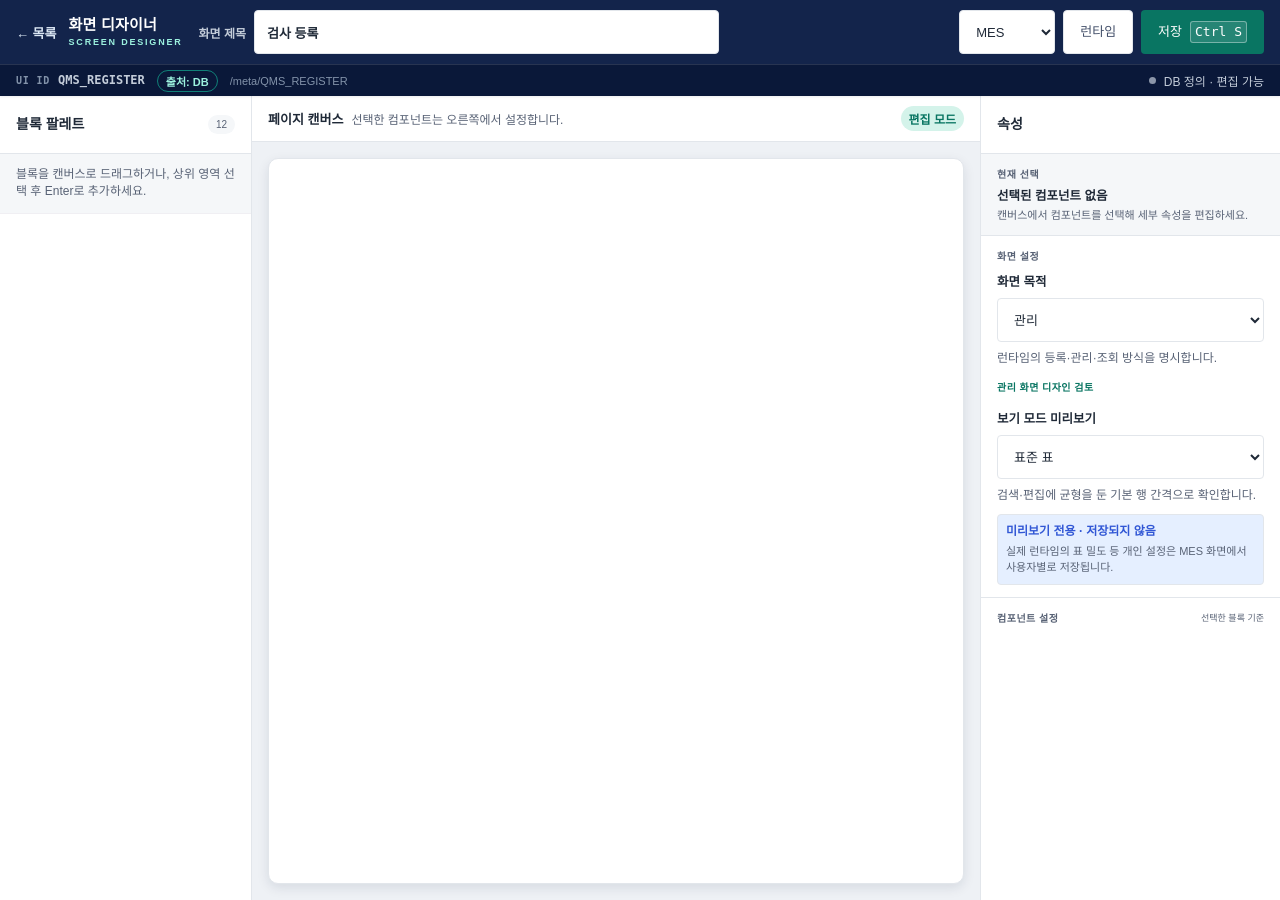
it: ScreenEditor 화면 목적 속성 › Manage 화면에서만 4가지 보기 모드를 저장과 분리해 캔버스에 미리보기한다
expect the text "미리보기 전용 · 저장되지 않음" is shown: met, box [1006,524,1156,538]
expect the text "개인 설정은 MES 화면에서 사용자별로 저장됩니다" is shown: met, box [1006,545,1247,573]
Select "카드" in the dropdown labelled "보기 모드 미리보기": (1130, 457) [997,435,1264,479]
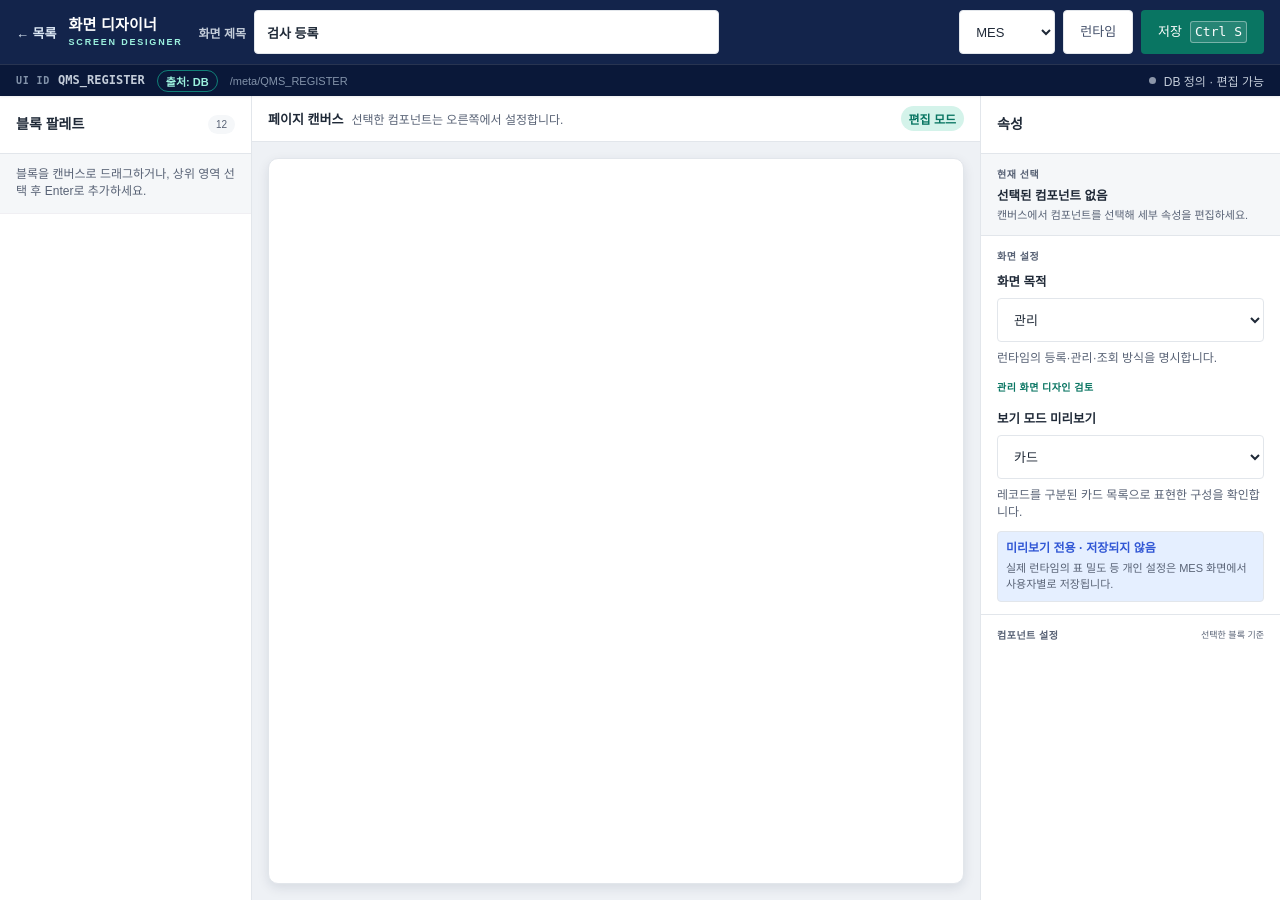
expect the text "DB 정의 · 편집 가능" is shown: met, box [1149,72,1264,89]
expect the text "레코드를 구분된 카드 목록으로 표현한 구성을 확인합니다." is shown: met, box [997,487,1264,521]
Click the button "저장 Ctrl S": (1203, 32) [1141,10,1264,54]
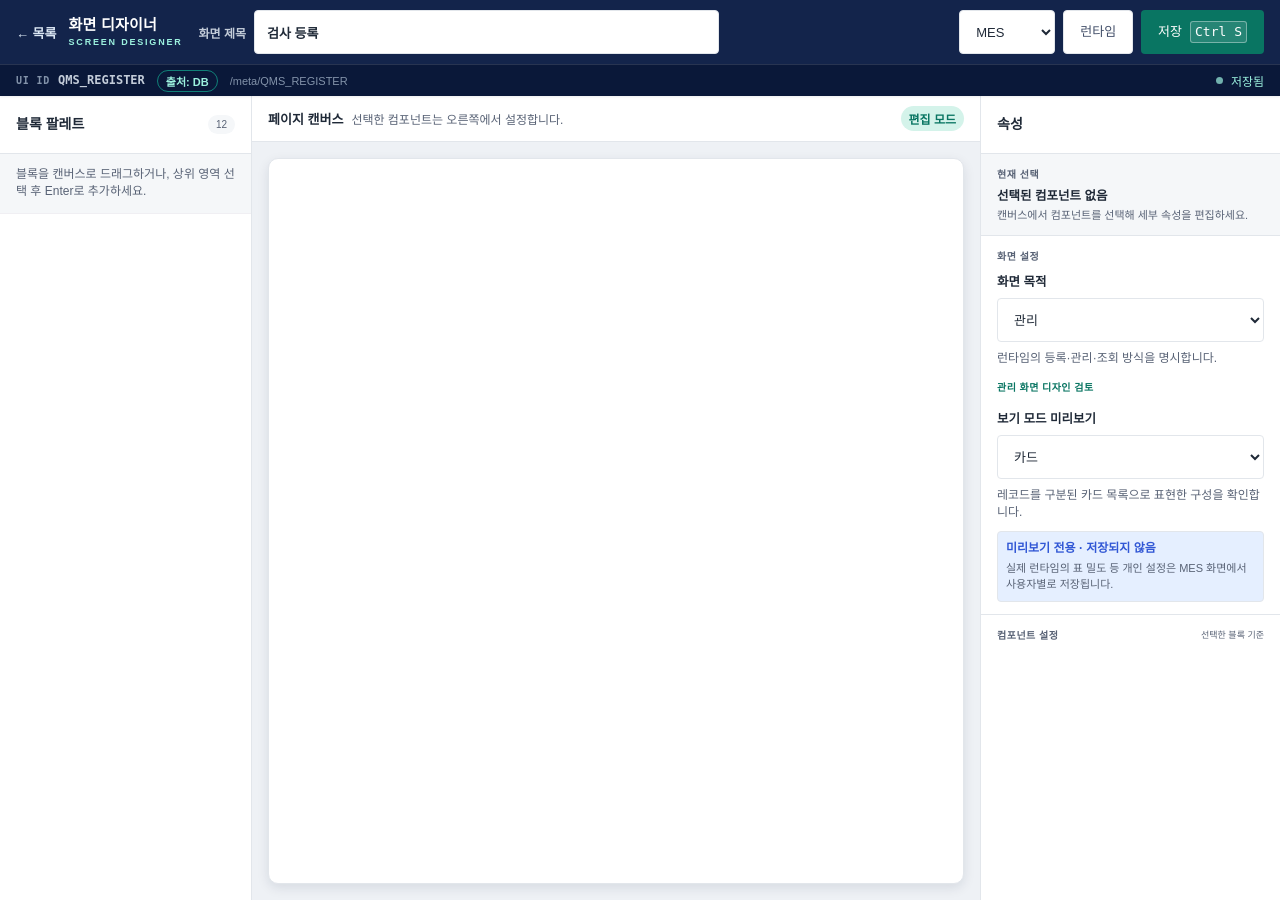
Select "조회" in the dropdown labelled "화면 목적": (1130, 320) [997,298,1264,342]
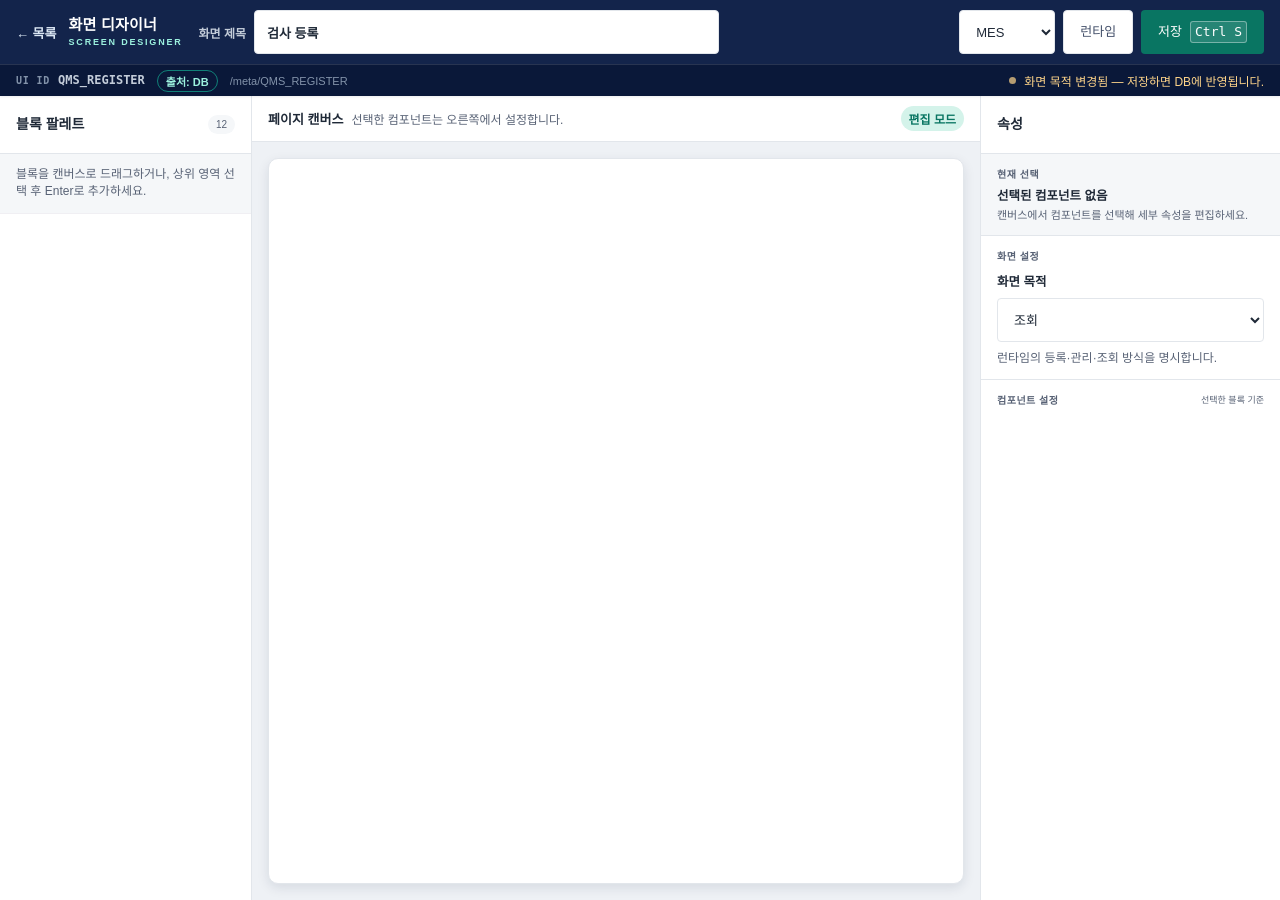
expect the label labelled "보기 모드 미리보기" is gone: met
